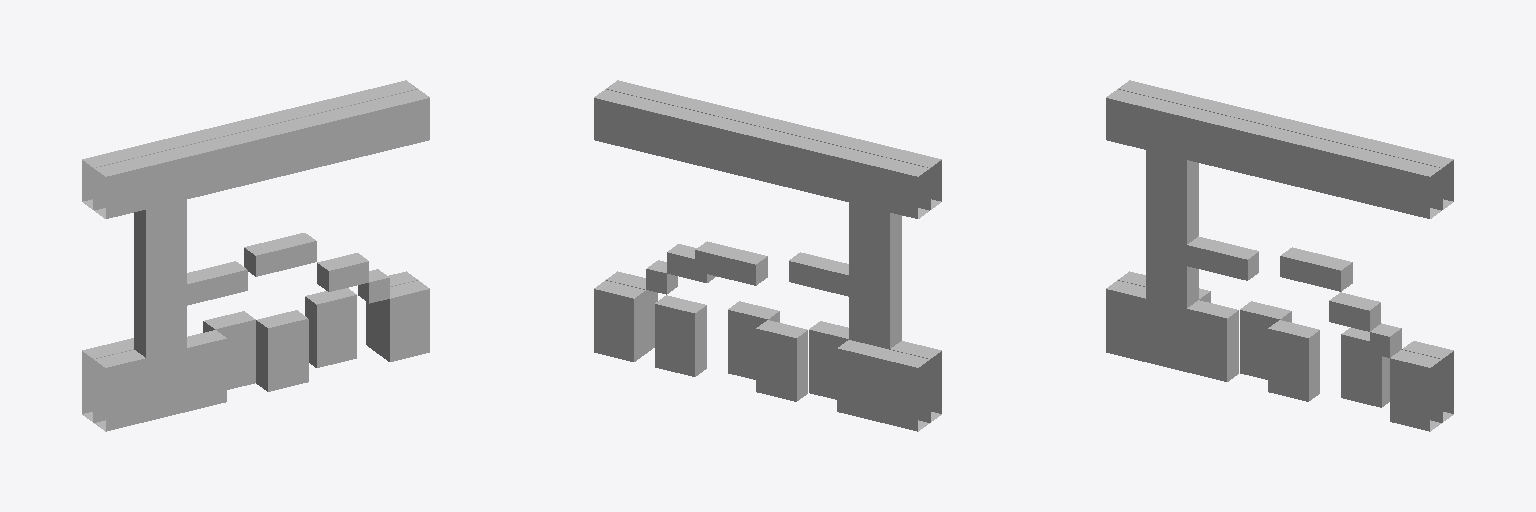
Rendered from Colby12NoMat.obj.
3 views of the same model, side by side, from view 1: azimuth 30°, elevation 25°; view 2: azimuth 150°, elevation 25°; view 3: azimuth 330°, elevation 25° (orthographic).
Parts seen in each view (by area): view 1: Plane.002, Plane.001_Plane.001; view 2: Plane.001_Plane.001, Plane.002; view 3: Plane.002, Plane.001_Plane.001.
Boxes of the visible parts, x1,y1,x2,y2 form: Plane.002: [94, 89, 429, 431]; Plane.001_Plane.001: [82, 80, 417, 422]; Plane.001_Plane.001: [594, 89, 929, 431]; Plane.002: [606, 80, 941, 422]; Plane.002: [1106, 89, 1441, 431]; Plane.001_Plane.001: [1118, 80, 1453, 422].
Bounding box in the file's own units: 16 × 12 × 2.04.